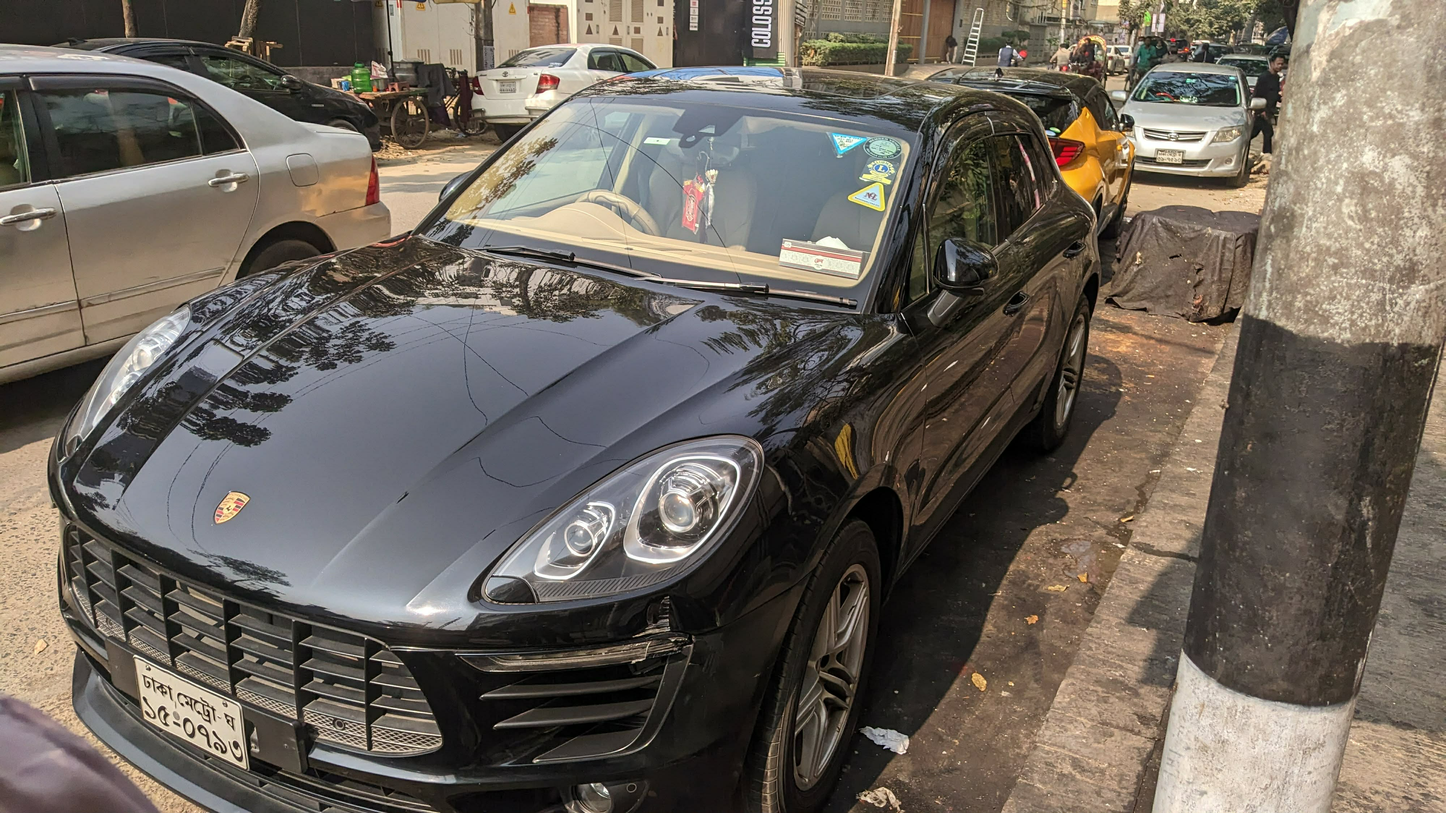private car: (54, 60, 1111, 803), (0, 17, 381, 314), (1110, 53, 1266, 194), (455, 35, 670, 105)
